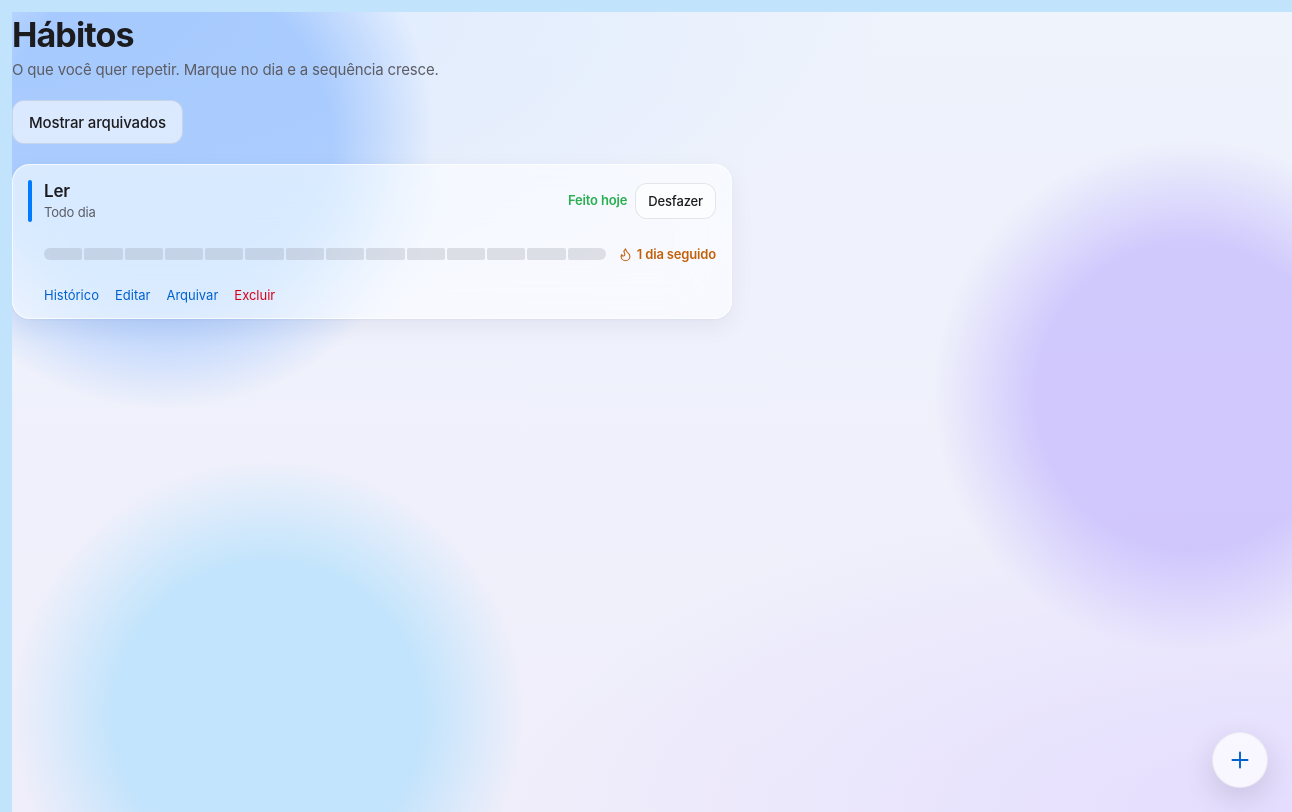
Habitos › desmarcar apaga a marcacao do dia
The image size is (1292, 812).
Click the button "Desfazer" at (676, 201), box [635, 183, 716, 219]
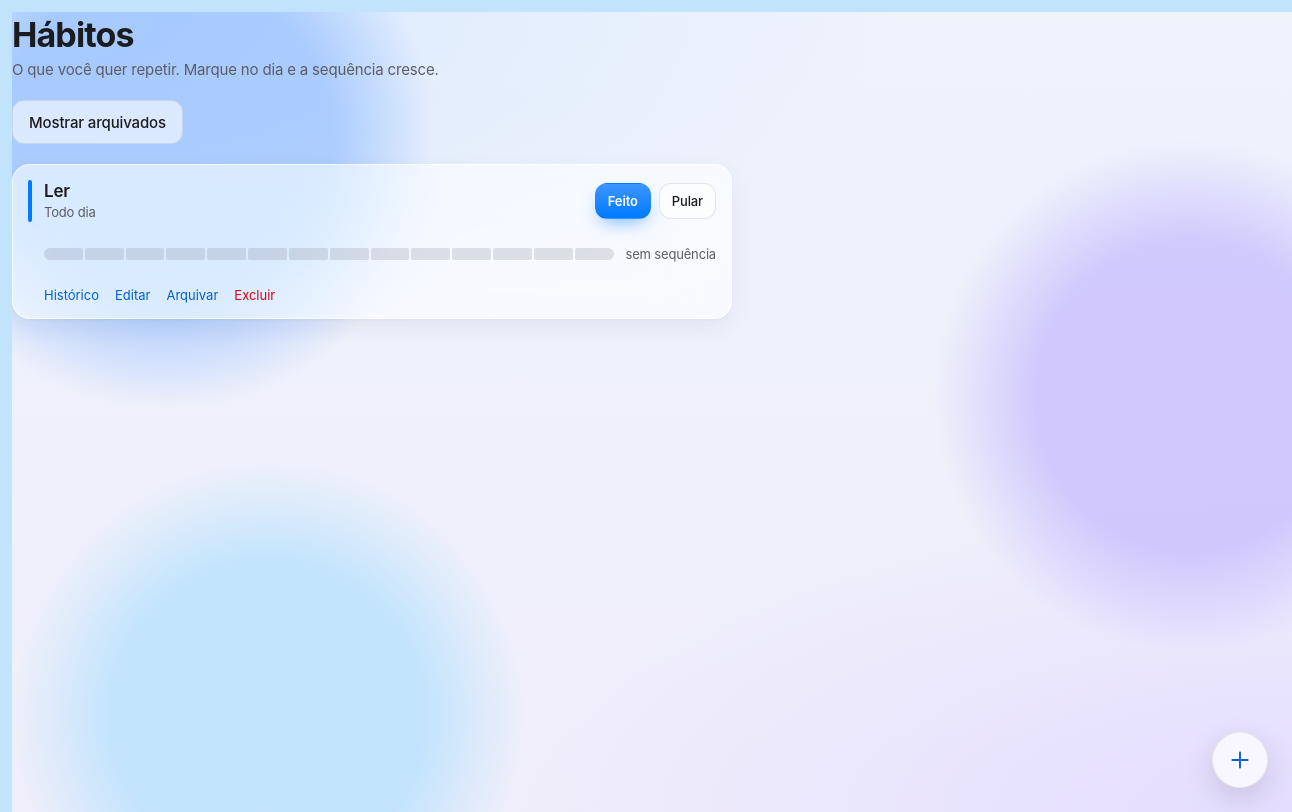
Expected: the text "sem sequência" is shown, [626, 246, 716, 263]
